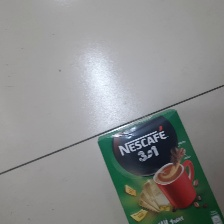Nes Rang: (97, 108, 224, 224)
